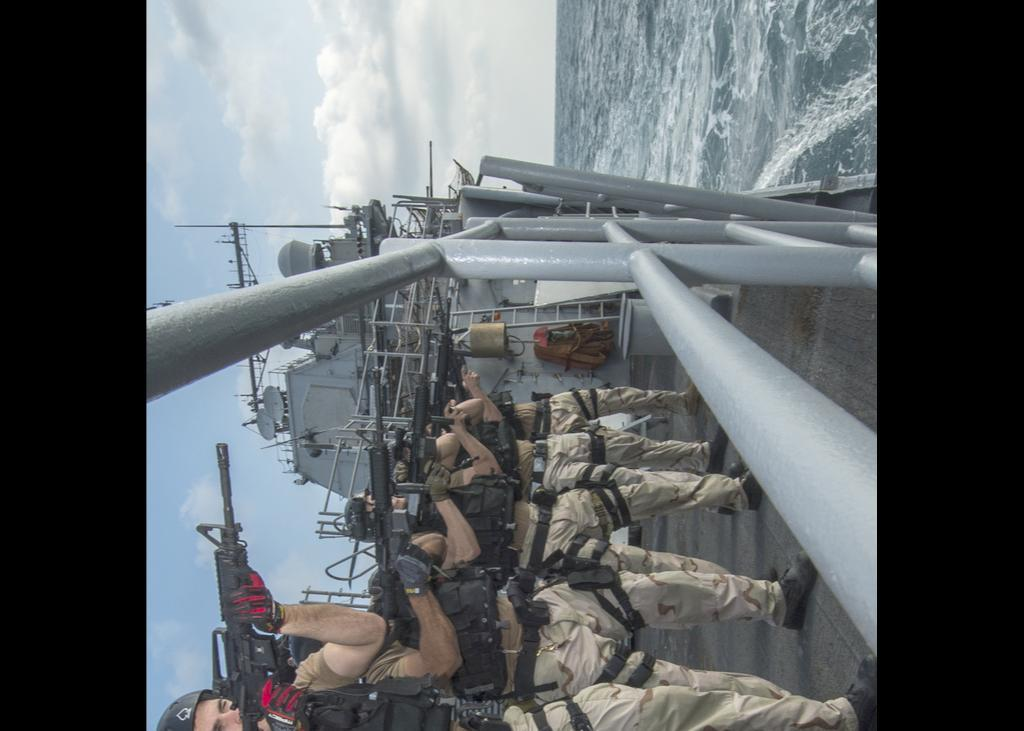gun: (190, 440, 285, 731), (361, 366, 422, 614), (406, 326, 434, 480)
